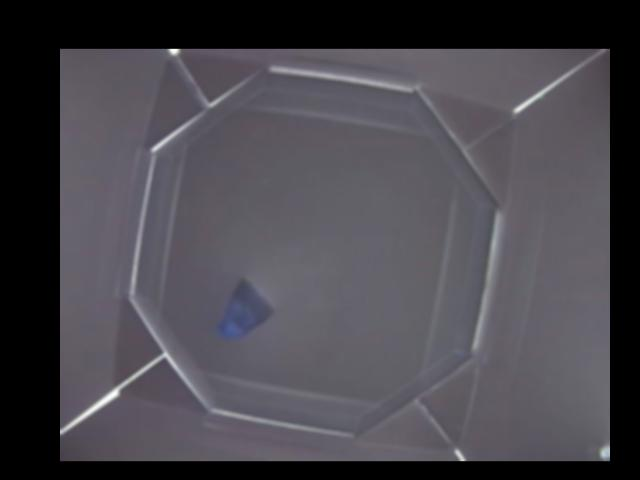Mooli: (218, 279, 273, 340)
